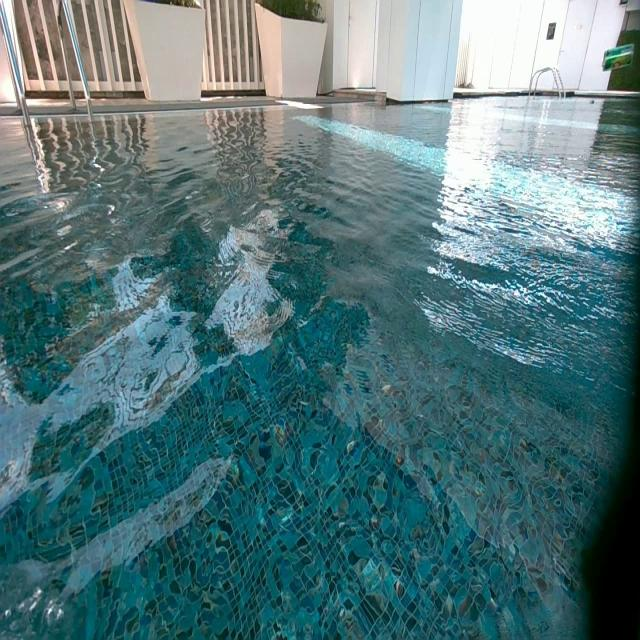Cans: (602, 45, 633, 73), (589, 100, 595, 104)
